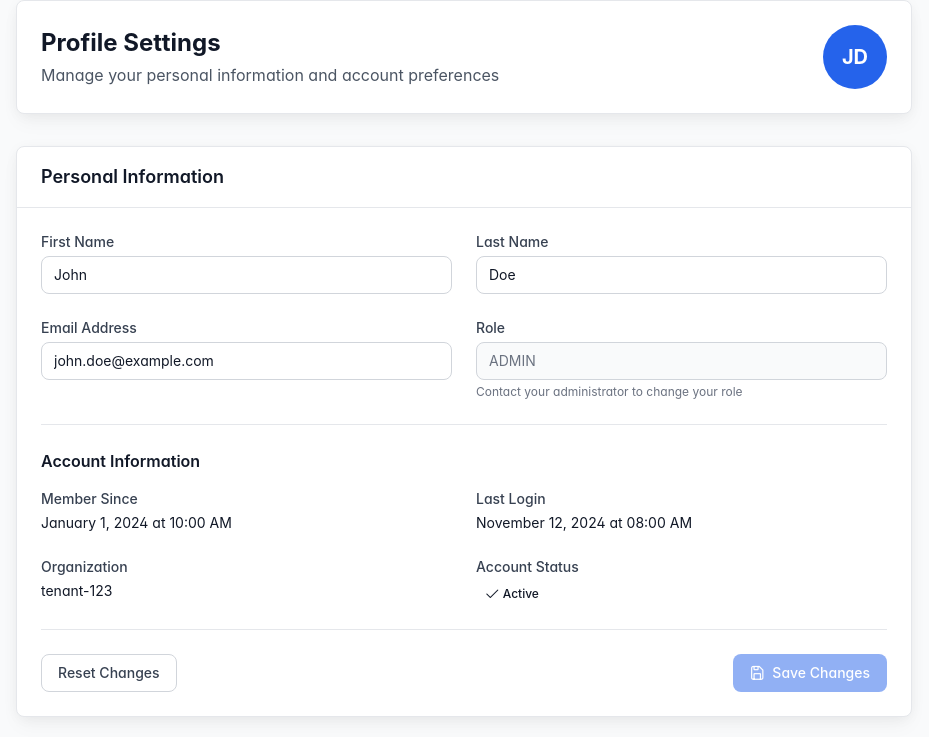
ProfileView › Form Changes Detection › should enable submit button when changes are made
Step 1. Replace the text in the field with id "email" with "new.email@example.com" → (246, 361), box [41,342,452,380]
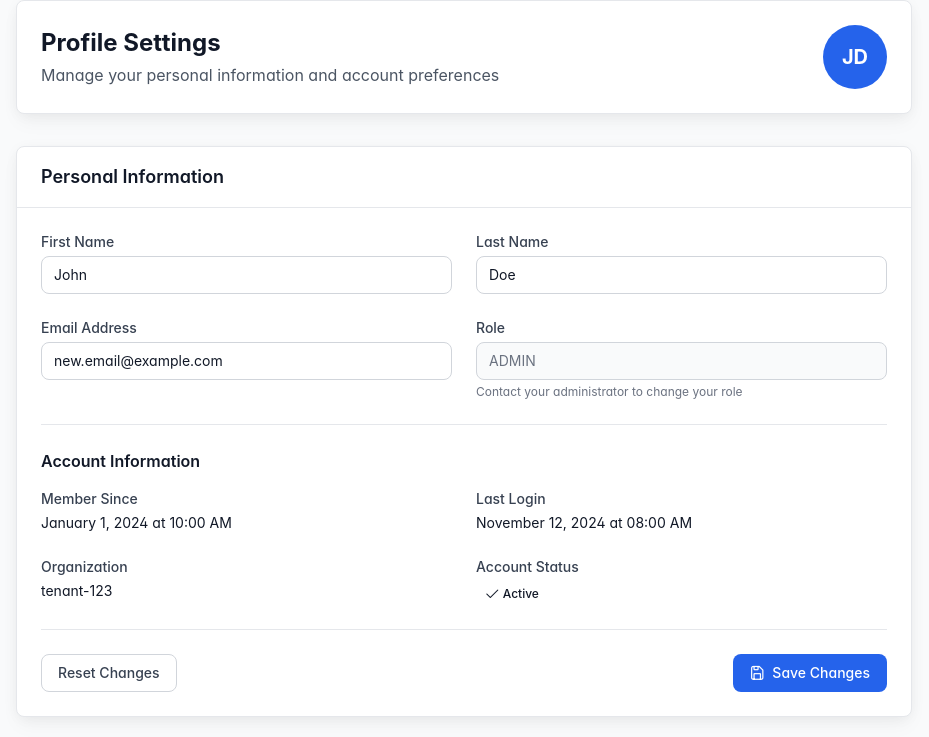
Expected: the submit button is enabled, [733,654,887,692]
